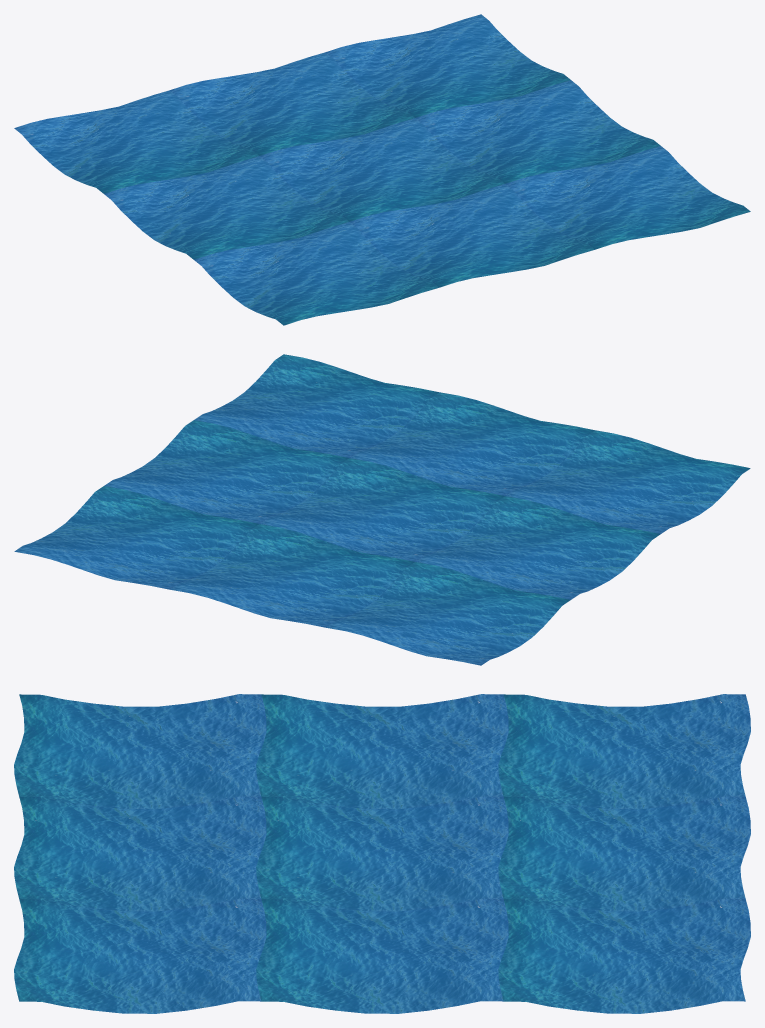
The model's file is ocean_000073.obj.
3 renders of one model, top to bottom at view 1: azimuth 30°, elevation 25°; view 2: azimuth 150°, elevation 25°; view 3: azimuth 270°, elevation 25°, orthographic. The views are drawn at different scales.
Parts seen in each view (by area): view 1: Ocean_Plan.001; view 2: Ocean_Plan.001; view 3: Ocean_Plan.001.
Boxes of the visible parts, x1=… form: Ocean_Plan.001: x1=14, y1=14, x2=750, y2=325; Ocean_Plan.001: x1=14, y1=354, x2=750, y2=665; Ocean_Plan.001: x1=14, y1=694, x2=750, y2=1013.
Size of the model in its own units: 109234 by 2335 by 110536.
Materials: 1 (1 with a texture image).
